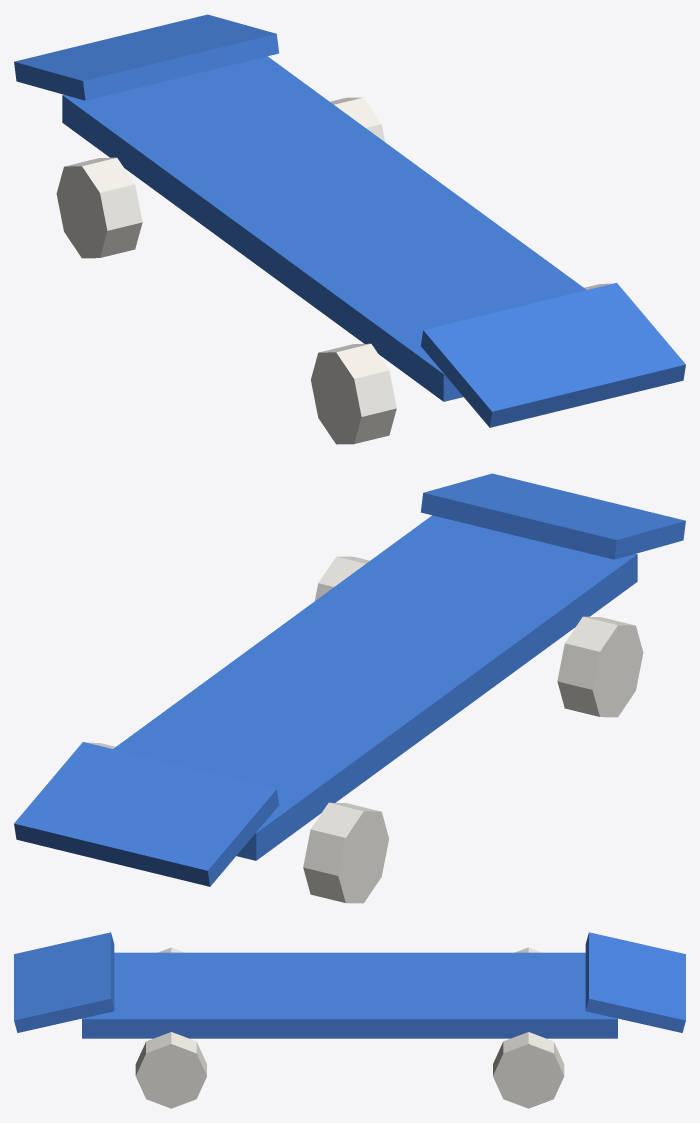
The model's file is Skate_SkateboardBlue.fbx.
The picture shows the model from 3 angles, top to bottom: view 1: azimuth 30°, elevation 25°; view 2: azimuth 150°, elevation 25°; view 3: azimuth 270°, elevation 25°; orthographic projection. The views are drawn at different scales.
Visible parts, largest first — view 1: SkateboardBlue; view 2: SkateboardBlue; view 3: SkateboardBlue.
Boxes of the visible parts, box(x1,y1,x2,y2) form: SkateboardBlue: box(14, 14, 685, 444); SkateboardBlue: box(14, 473, 685, 903); SkateboardBlue: box(14, 932, 685, 1108).
Size of the model in its own units: 0.32 by 0.1466 by 0.9407.
